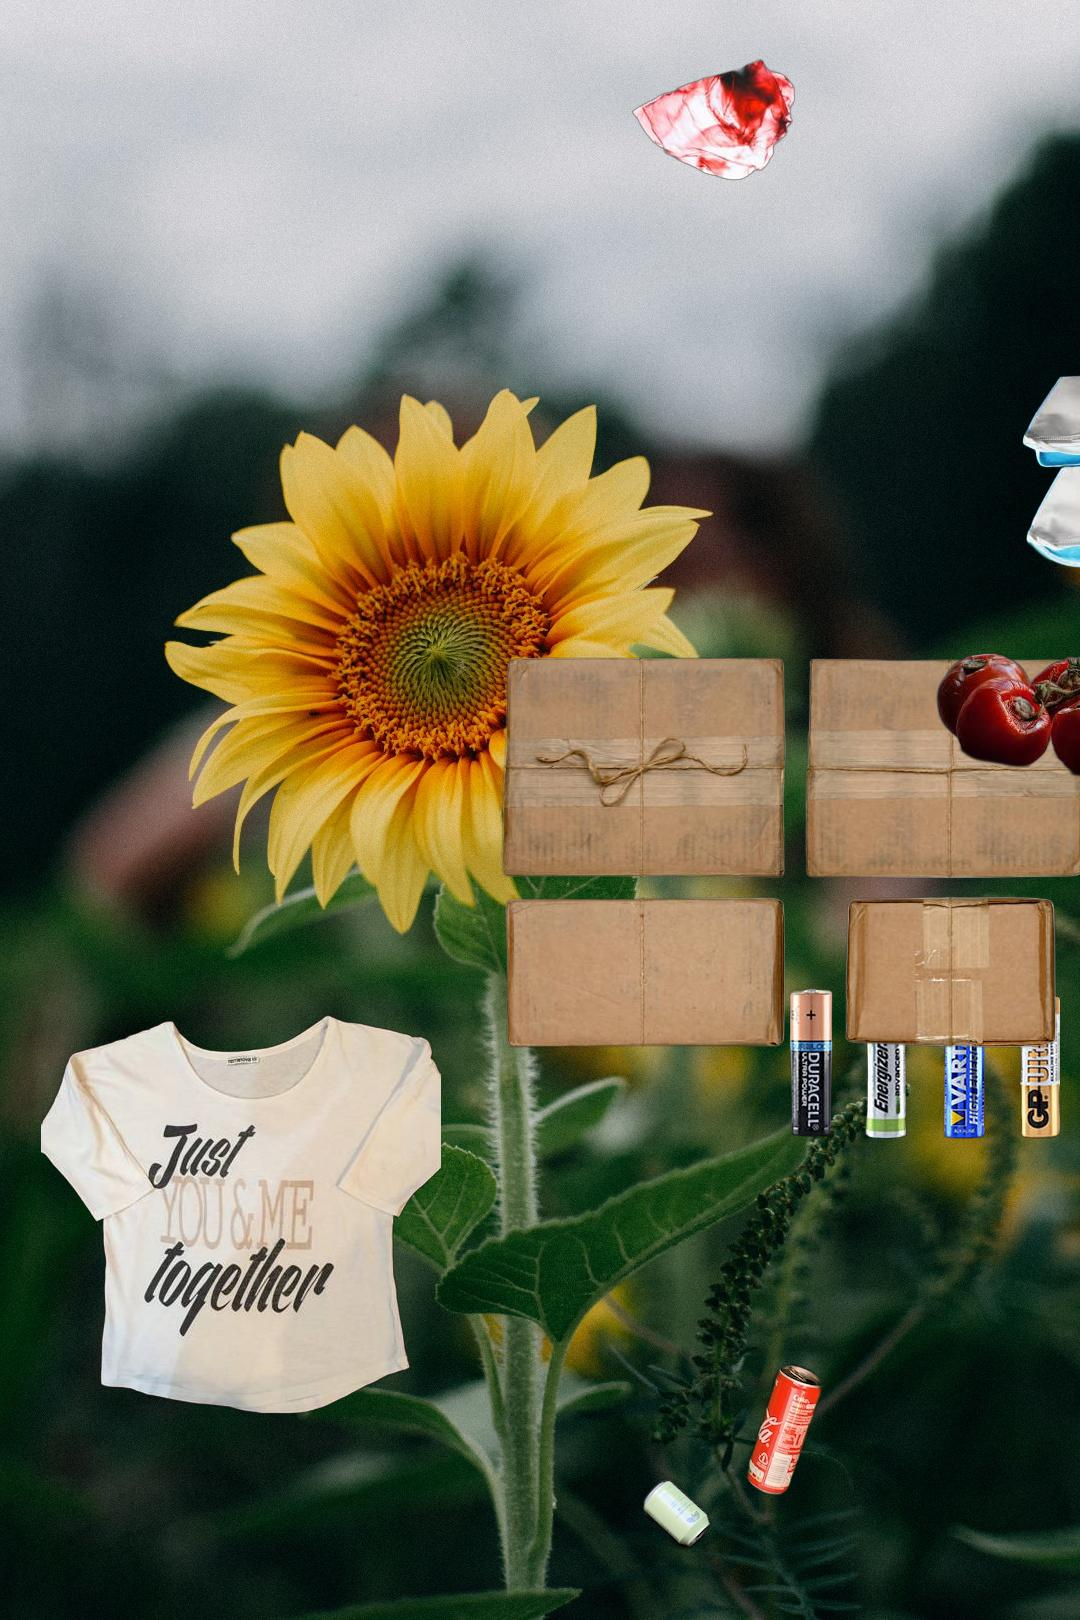battery: (787, 985, 1060, 1141)
biological: (935, 640, 1080, 787)
clothes: (41, 1012, 441, 1417)
metal-cans: (554, 1474, 773, 1620), (742, 1358, 830, 1501)
plastic-bag: (629, 57, 798, 183)
trash: (1019, 371, 1080, 573)
trashbox-cardboard: (497, 655, 1080, 1052)
